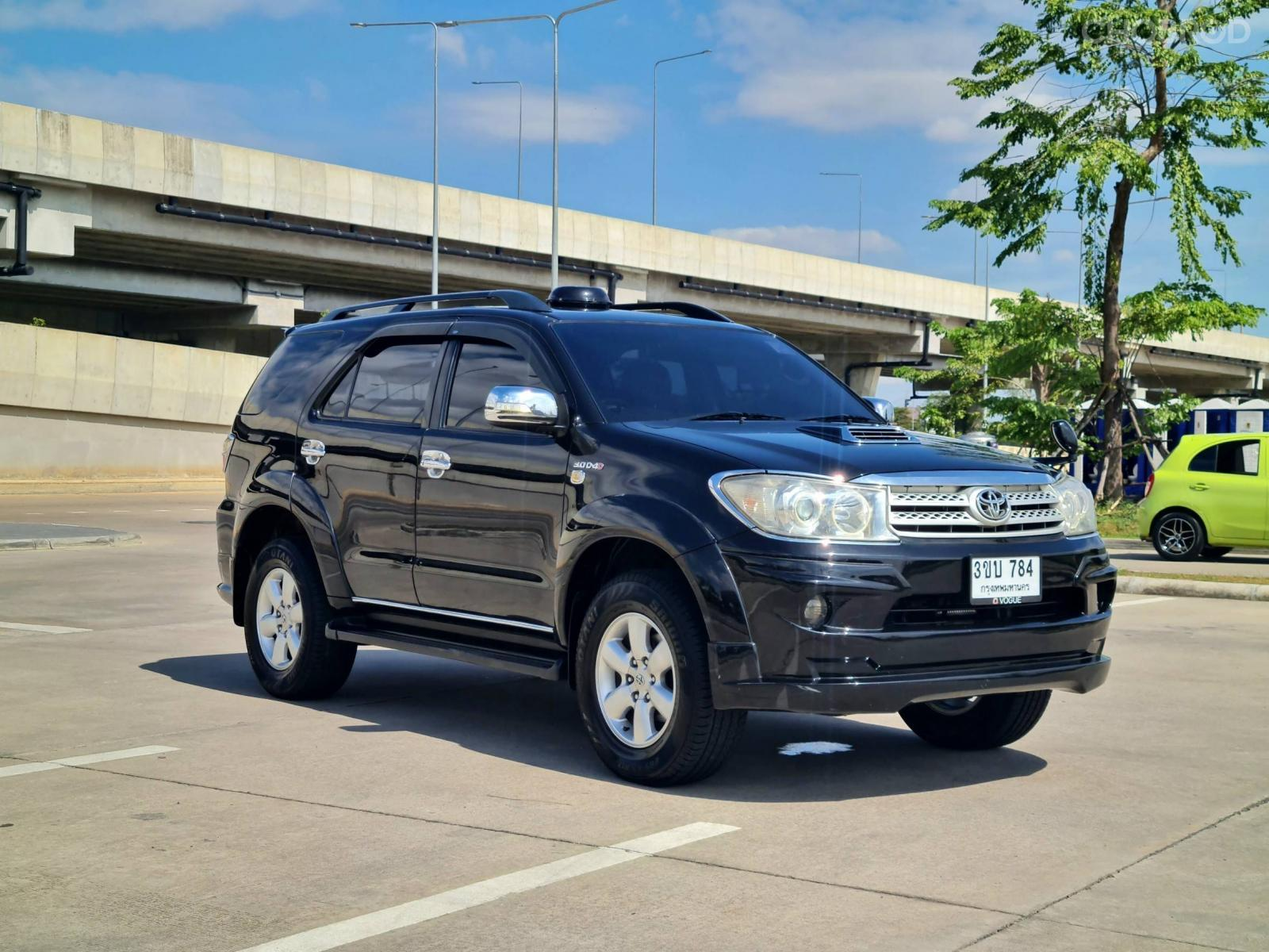license-plate: (960, 543, 1044, 610)
